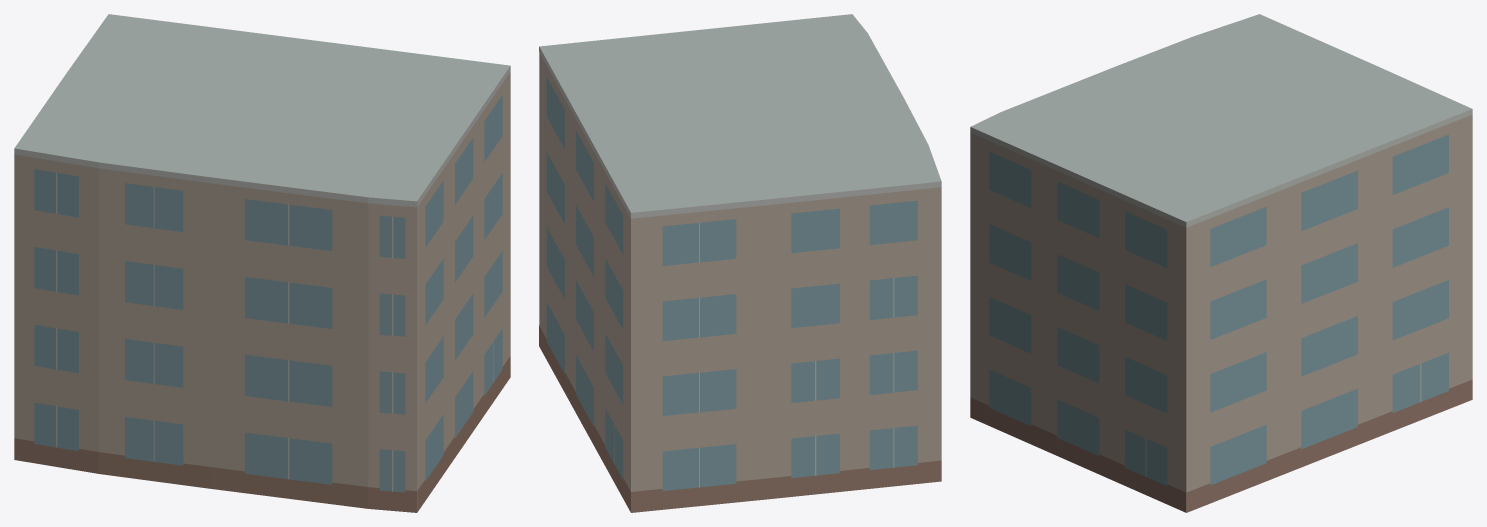
The model's file is survey-upis-32747309.glb.
3 renders of one model, left to right at view 1: azimuth 30°, elevation 25°; view 2: azimuth 150°, elevation 25°; view 3: azimuth 270°, elevation 25°, orthographic. The views are drawn at different scales.
Visible parts, largest first — view 1: survey-upis-32747309.tmp; view 2: survey-upis-32747309.tmp; view 3: survey-upis-32747309.tmp.
Part boxes in pixels (x1,y1,x2,y2): survey-upis-32747309.tmp: (14, 14, 510, 512); survey-upis-32747309.tmp: (539, 14, 941, 512); survey-upis-32747309.tmp: (970, 14, 1472, 512).
Size of the model in its own units: 19.59 by 12.75 by 19.98.
